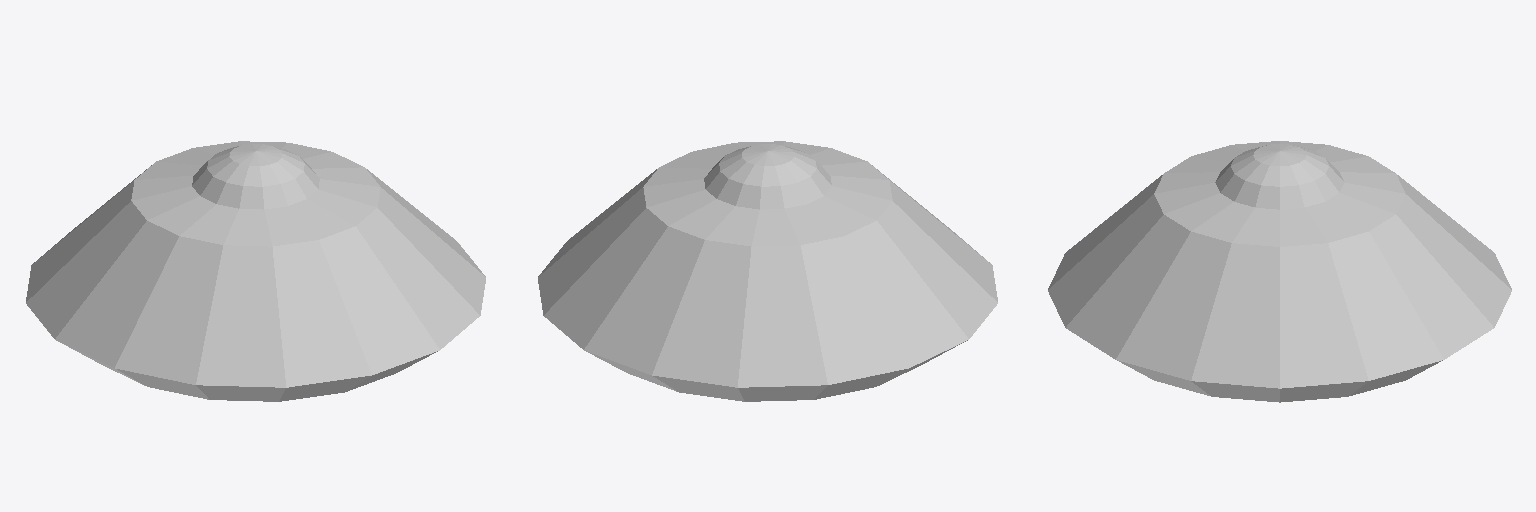
File: Ovni.obj
3 renders of one model, left to right at view 1: azimuth 30°, elevation 25°; view 2: azimuth 150°, elevation 25°; view 3: azimuth 270°, elevation 25°, orthographic.
Parts seen in each view (by area): view 1: sphere1; view 2: sphere1; view 3: sphere1.
Part boxes in pixels (left/top/right/bottom): sphere1: left=26, top=141, right=485, bottom=401; sphere1: left=538, top=141, right=997, bottom=401; sphere1: left=1048, top=141, right=1511, bottom=402.
Size of the model in its own units: 3.33 by 1.65 by 3.33.